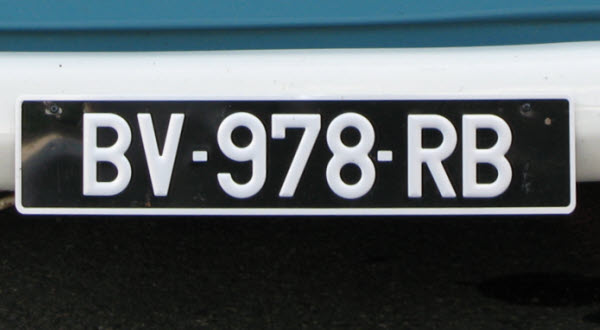license_plate: (14, 96, 578, 215)
